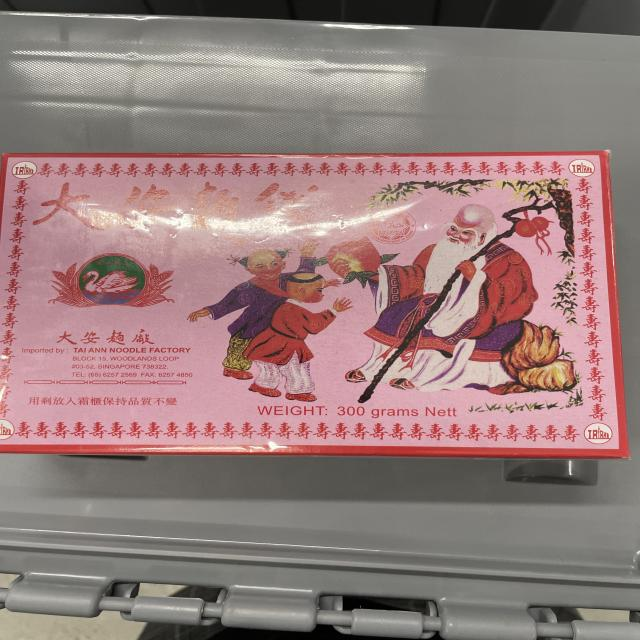object_name: (0, 154, 626, 459)
